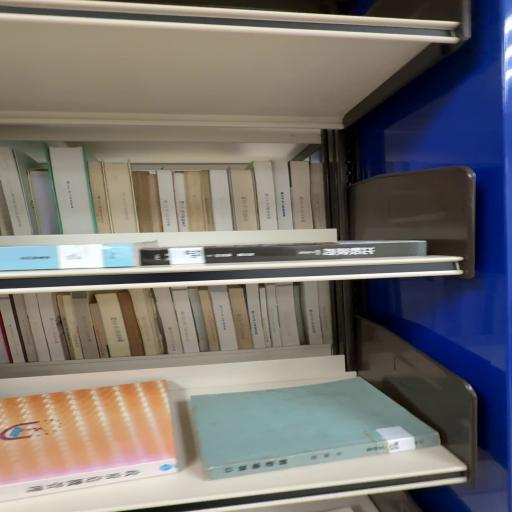flat: (192, 378, 441, 481), (1, 381, 178, 503), (141, 242, 427, 267), (1, 244, 147, 272)
